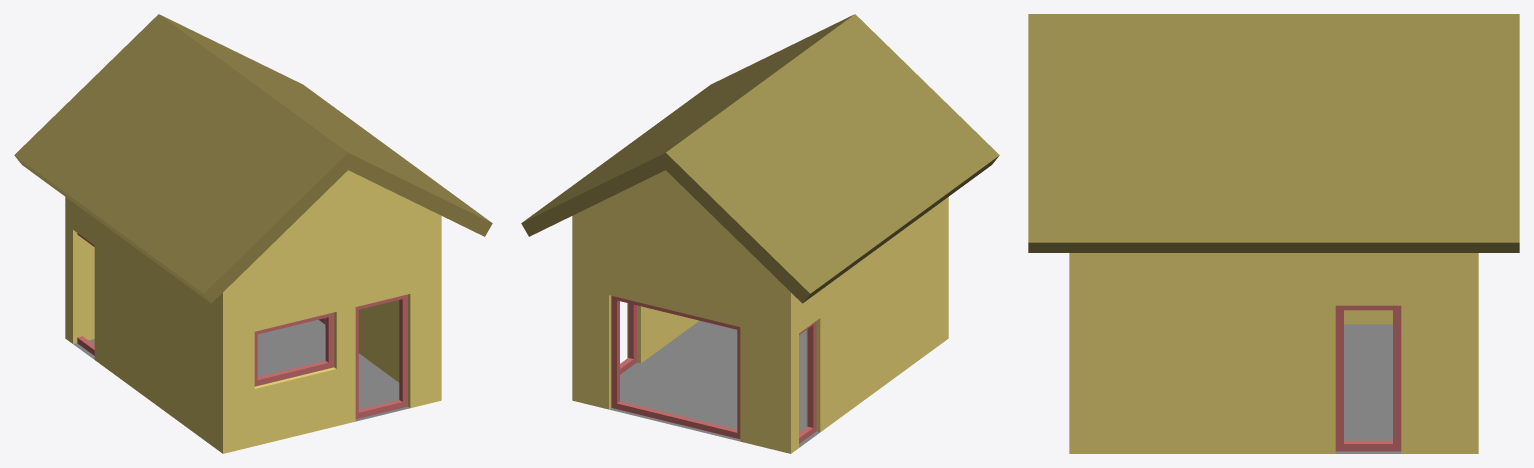
Rendered from result.glb.
The picture shows the model from 3 angles, left to right: view 1: azimuth 30°, elevation 25°; view 2: azimuth 150°, elevation 25°; view 3: azimuth 270°, elevation 25°; orthographic projection. The views are drawn at different scales.
Visible parts, largest first — view 1: 6074bc64-dcce-4edb-892d-5f5da71d12e6__undefined, 862e7c96-3bf0-4ad1-aff1-4918118327a2__undefined (×2), 708b98be-4839-465b-8215-879d8dce10fe__Plane_6, f468dfde-fdbb-42c2-a09a-61a6a2928b4d__Box, 7cd40c29-c069-436e-9ab7-1d7b39b5d52d__Box_3; view 2: 862e7c96-3bf0-4ad1-aff1-4918118327a2__undefined (×2), 6074bc64-dcce-4edb-892d-5f5da71d12e6__undefined, 708b98be-4839-465b-8215-879d8dce10fe__Plane_6, f7a3d16c-2331-4591-900a-1e3af85aca0d__Box_9, ccc769e5-5a72-4c71-9785-b792600addc5__Box_12, 0f0201ce-455d-40b1-ac15-bf10d9ed9152__Box_15; view 3: 862e7c96-3bf0-4ad1-aff1-4918118327a2__undefined, 6074bc64-dcce-4edb-892d-5f5da71d12e6__undefined, 708b98be-4839-465b-8215-879d8dce10fe__Plane_6, 0f0201ce-455d-40b1-ac15-bf10d9ed9152__Box_15.
Boxes of the visible parts, left/top/right/bottom form: 6074bc64-dcce-4edb-892d-5f5da71d12e6__undefined: left=65, top=170, right=441, bottom=453; 862e7c96-3bf0-4ad1-aff1-4918118327a2__undefined (×2): left=14, top=14, right=492, bottom=303; 708b98be-4839-465b-8215-879d8dce10fe__Plane_6: left=73, top=319, right=409, bottom=421; f468dfde-fdbb-42c2-a09a-61a6a2928b4d__Box: left=355, top=294, right=407, bottom=418; 7cd40c29-c069-436e-9ab7-1d7b39b5d52d__Box_3: left=254, top=312, right=334, bottom=386; 862e7c96-3bf0-4ad1-aff1-4918118327a2__undefined (×2): left=521, top=14, right=999, bottom=303; 6074bc64-dcce-4edb-892d-5f5da71d12e6__undefined: left=572, top=170, right=948, bottom=453; 708b98be-4839-465b-8215-879d8dce10fe__Plane_6: left=609, top=320, right=819, bottom=447; f7a3d16c-2331-4591-900a-1e3af85aca0d__Box_9: left=611, top=295, right=740, bottom=438; ccc769e5-5a72-4c71-9785-b792600addc5__Box_12: left=799, top=321, right=816, bottom=443; 0f0201ce-455d-40b1-ac15-bf10d9ed9152__Box_15: left=620, top=303, right=636, bottom=374; 862e7c96-3bf0-4ad1-aff1-4918118327a2__undefined: left=1028, top=14, right=1519, bottom=252; 6074bc64-dcce-4edb-892d-5f5da71d12e6__undefined: left=1069, top=253, right=1478, bottom=453; 708b98be-4839-465b-8215-879d8dce10fe__Plane_6: left=1335, top=324, right=1401, bottom=453; 0f0201ce-455d-40b1-ac15-bf10d9ed9152__Box_15: left=1335, top=305, right=1401, bottom=451.
Bounding box in the file's own units: 529 × 500 × 600.
